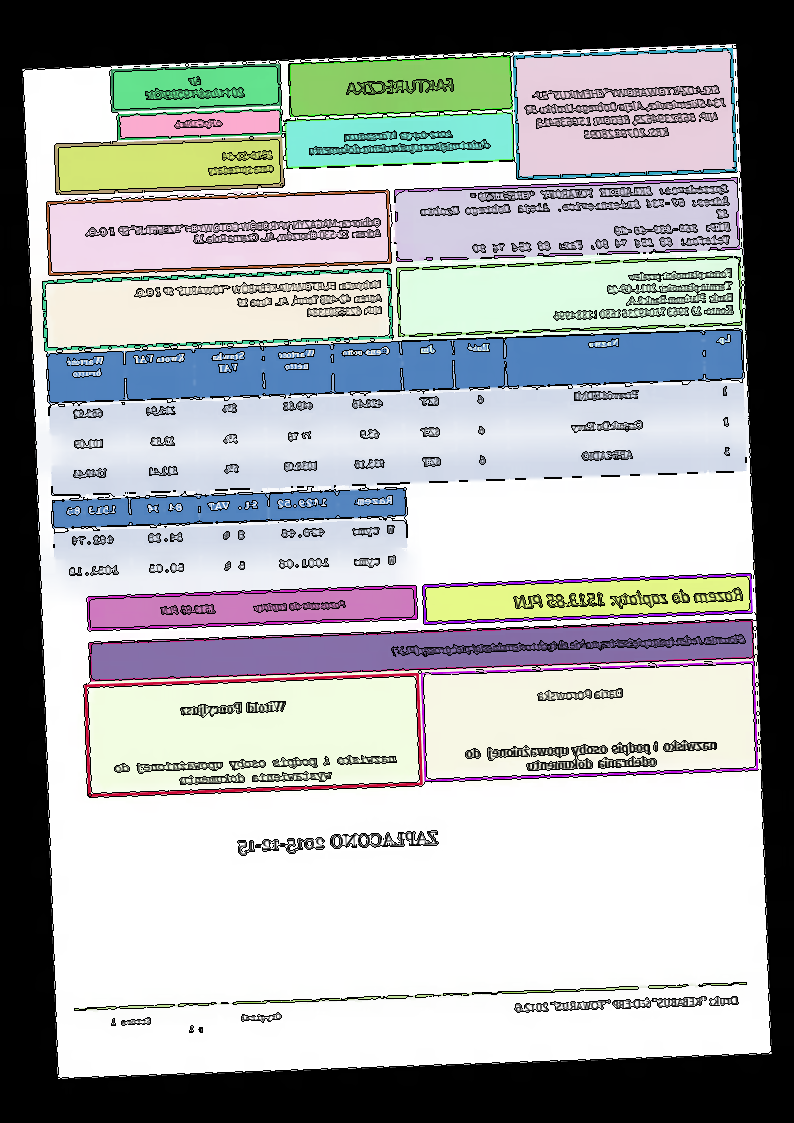Table: (46, 327, 749, 497), (50, 487, 412, 591)
TextBox: (416, 179, 734, 257), (523, 80, 729, 145), (133, 277, 385, 324), (391, 628, 749, 661), (114, 751, 401, 790), (550, 264, 738, 322), (84, 215, 383, 250), (463, 738, 722, 776), (512, 581, 747, 611), (510, 989, 742, 1016), (235, 828, 443, 858), (305, 125, 493, 158), (107, 1011, 284, 1038), (159, 596, 350, 617), (143, 71, 248, 103), (342, 74, 458, 99), (176, 697, 290, 719), (206, 147, 276, 178), (534, 682, 627, 704), (172, 115, 225, 130)
